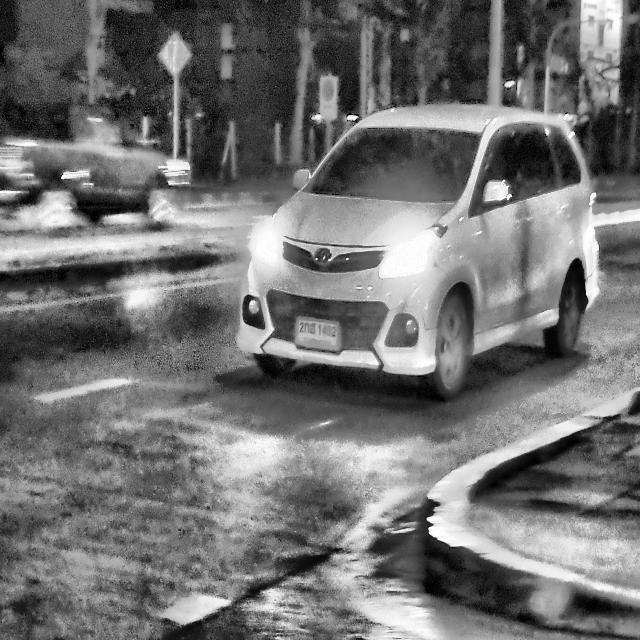license-plate: (292, 319, 342, 348)
